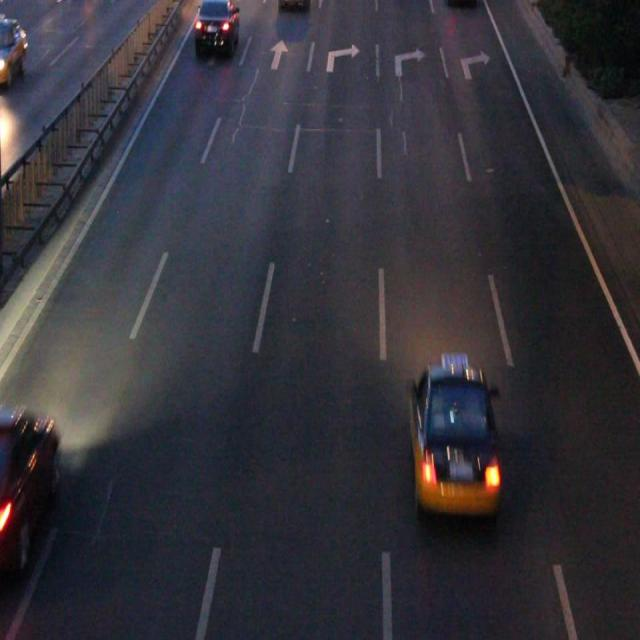car: (409, 367, 498, 512), (1, 410, 57, 574), (196, 1, 238, 52)
